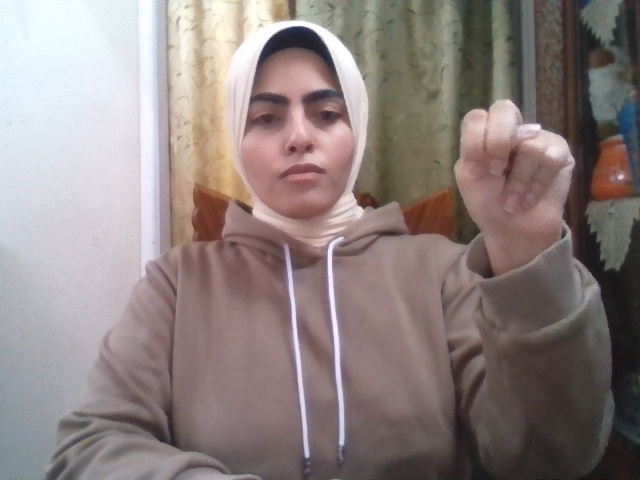N: (454, 99, 575, 238)
